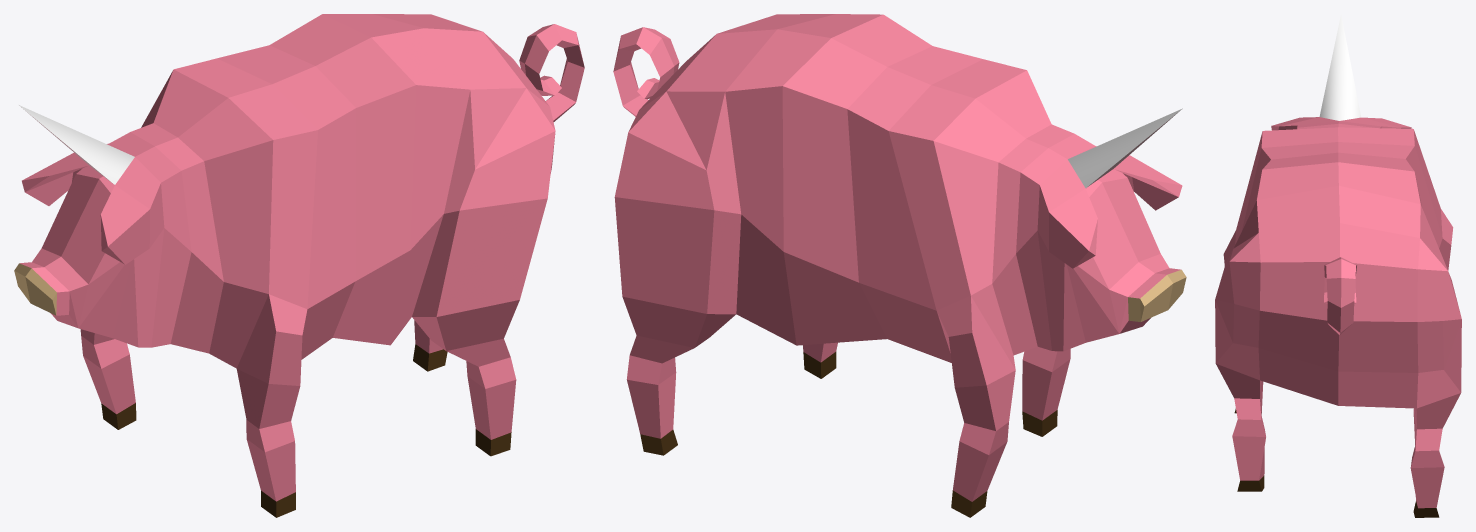
Rendered from pigWalking13.obj.
3 views of the same model, side by side, from view 1: azimuth 30°, elevation 25°; view 2: azimuth 150°, elevation 25°; view 3: azimuth 270°, elevation 25° (orthographic). The views are drawn at different scales.
Parts seen in each view (by area): view 1: Pig_Cylinder; view 2: Pig_Cylinder; view 3: Pig_Cylinder.
Part boxes in pixels (x1,y1,x2,y2): Pig_Cylinder: (14,14,584,517); Pig_Cylinder: (613,14,1186,517); Pig_Cylinder: (1215,14,1461,517).
Size of the model in its own units: 23.03 by 16.06 by 11.11.
